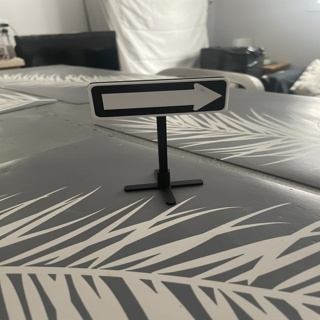sign_oneway_right: (84, 77, 228, 116)
